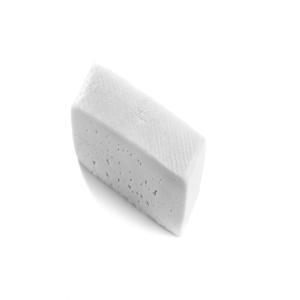cheese: (55, 56, 211, 235)
